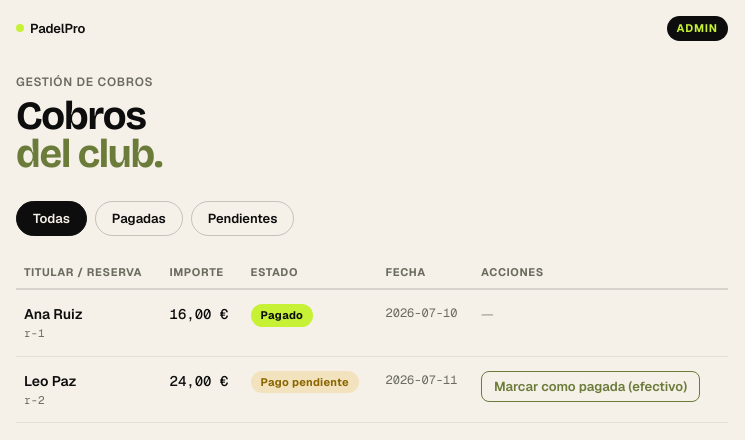
Scenario: AdminPagosPage › filtra Pendientes (oculta las pagadas)
Expected: the text "Leo Paz" is shown, [24,372,76,390]
Click the button "Pendientes".
click(243, 218)  # box [191,200,294,236]
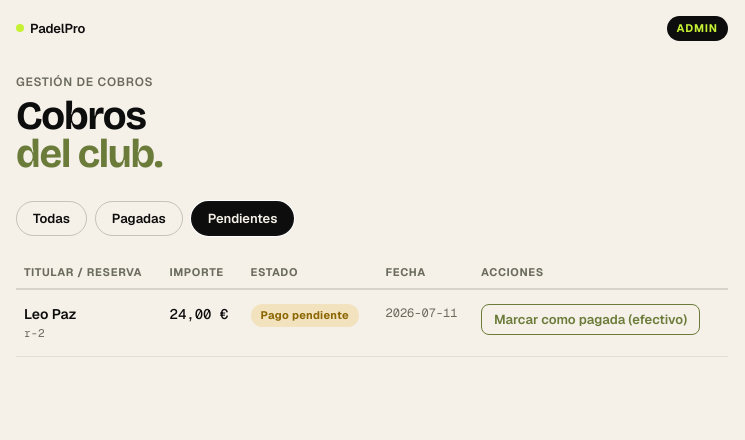
Expected: the text "Leo Paz" is shown, [24,305,76,323]
Expected: the text "Ana Ruiz" is gone
